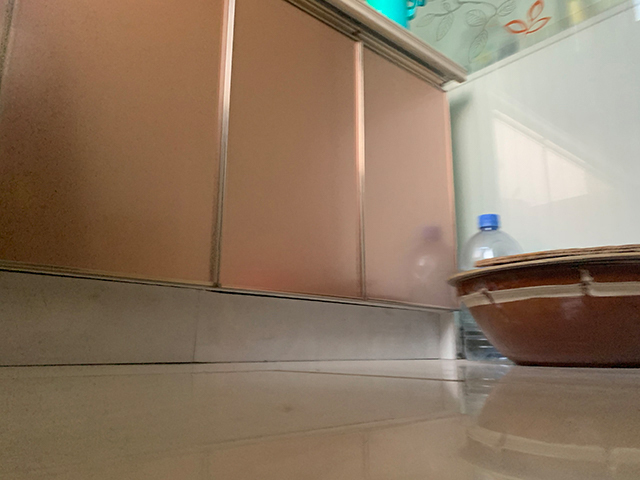cabinet: (1, 1, 464, 363)
